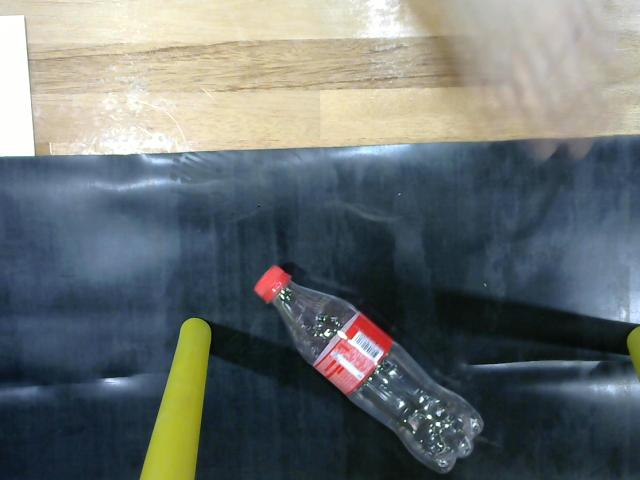bottle: (246, 264, 499, 480)
